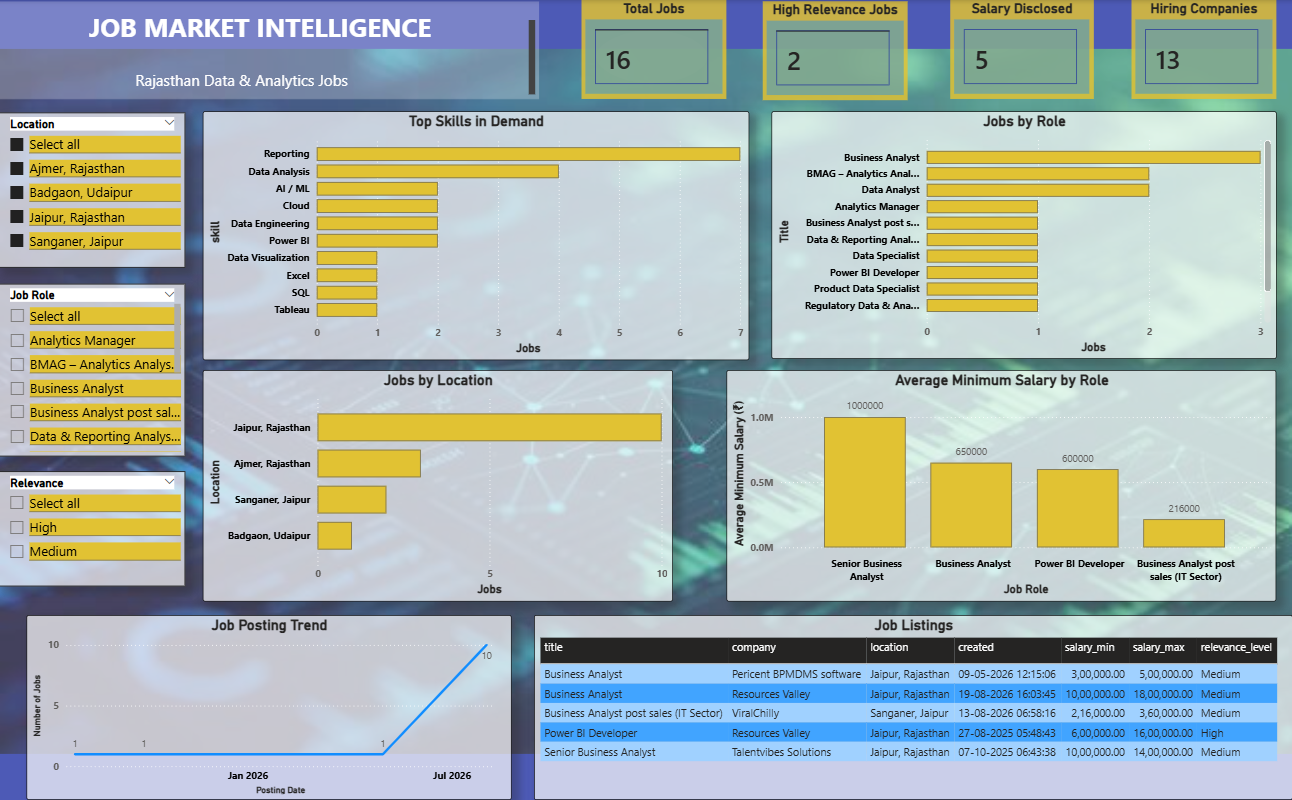

What the dashboard file says about the page in this screenshot:
{"tool":"powerbi","page":{"name":"Page 1","canvas":[1600,1000],"ordinal":0},"visuals":[{"type":"textbox","box":[0,1.5,667.9,120.6],"z":0},{"type":"cardVisual","title":"Total Jobs","fields":{"Data":["CountNonNull(analytics_project jobs_clean.job_id)"]},"box":[720.5,0,179.3,122.1],"z":1000},{"type":"cardVisual","title":"High Relevance Jobs","fields":{"Data":["CountNonNull(analytics_project jobs_clean.job_id)"]},"box":[944.7,1.5,179.3,122.1],"z":2000},{"type":"cardVisual","title":"Salary Disclosed","fields":{"Data":["analytics_project job_skills.Salary Disclosed"]},"box":[1176.6,0,177.8,122.1],"z":3000},{"type":"cardVisual","title":"Hiring Companies","fields":{"Data":["Count(analytics_project jobs_clean.company)"]},"box":[1400.7,0,179.3,122.1],"z":4000},{"type":"clusteredBarChart","title":"Top Skills in Demand","fields":{"Category":["analytics_project job_skills.skill"],"Y":["CountNonNull(analytics_project job_skills.job_id)"]},"box":[252,137.6,675.6,307.7],"z":5000},{"type":"clusteredBarChart","title":"Jobs by Role","fields":{"Category":["analytics_project jobs_clean.title"],"Y":["CountNonNull(analytics_project jobs_clean.job_id)"]},"box":[955.5,137.6,624.6,306.1],"z":6000},{"type":"clusteredBarChart","title":"Jobs by Location","fields":{"Category":["analytics_project jobs_clean.location"],"Y":["CountNonNull(analytics_project jobs_clean.job_id)"]},"box":[252,457.6,581.3,286],"z":7000},{"type":"clusteredColumnChart","title":"Average Minimum Salary by Role","fields":{"Category":["analytics_project jobs_clean.title"],"Y":["Avg(analytics_project jobs_clean.salary_min)"]},"box":[899.8,457.6,680.3,286],"z":8000},{"type":"lineChart","title":"Job Posting Trend","fields":{"Category":["analytics_project jobs_clean.created.Variation.Date Hierarchy.Year","analytics_project jobs_clean.created.Variation.Date Hierarchy.Month"],"Y":["CountNonNull(analytics_project jobs_clean.job_id)"]},"box":[34,760.7,599.9,228.8],"z":9000},{"type":"tableEx","title":"Job Listings","fields":{"Values":["analytics_project jobs_clean.title","analytics_project jobs_clean.company","analytics_project jobs_clean.location","analytics_project jobs_clean.created","analytics_project jobs_clean.salary_min","analytics_project jobs_clean.salary_max","analytics_project jobs_clean.relevance_level"]},"box":[661.7,760.7,938.5,228.8],"z":10000},{"type":"slicer","fields":{"Values":["analytics_project jobs_clean.location"]},"box":[0,139.1,230.4,191.7],"z":11000},{"type":"slicer","fields":{"Values":["analytics_project jobs_clean.title"]},"box":[0,351,230.4,213.4],"z":12000},{"type":"slicer","fields":{"Values":["analytics_project jobs_clean.relevance_level"]},"box":[0,582.9,230.4,142.2],"z":13000}]}

Visuals, with their boxes in screenshot pixels (x1, y1, x2, y2), scaled from the page's 1600x1000 canvas onto the 1292x800 screenshot:
textbox: 0:1:539:98
"Total Jobs" cardVisual: 582:0:727:98
"High Relevance Jobs" cardVisual: 763:1:908:99
"Salary Disclosed" cardVisual: 950:0:1094:98
"Hiring Companies" cardVisual: 1131:0:1276:98
"Top Skills in Demand" clusteredBarChart: 203:110:749:356
"Jobs by Role" clusteredBarChart: 772:110:1276:355
"Jobs by Location" clusteredBarChart: 203:366:673:595
"Average Minimum Salary by Role" clusteredColumnChart: 727:366:1276:595
"Job Posting Trend" lineChart: 27:609:512:792
"Job Listings" tableEx: 534:609:1291:792
slicer - analytics_project jobs_clean.location: 0:111:186:265
slicer - analytics_project jobs_clean.title: 0:281:186:452
slicer - analytics_project jobs_clean.relevance_level: 0:466:186:580
